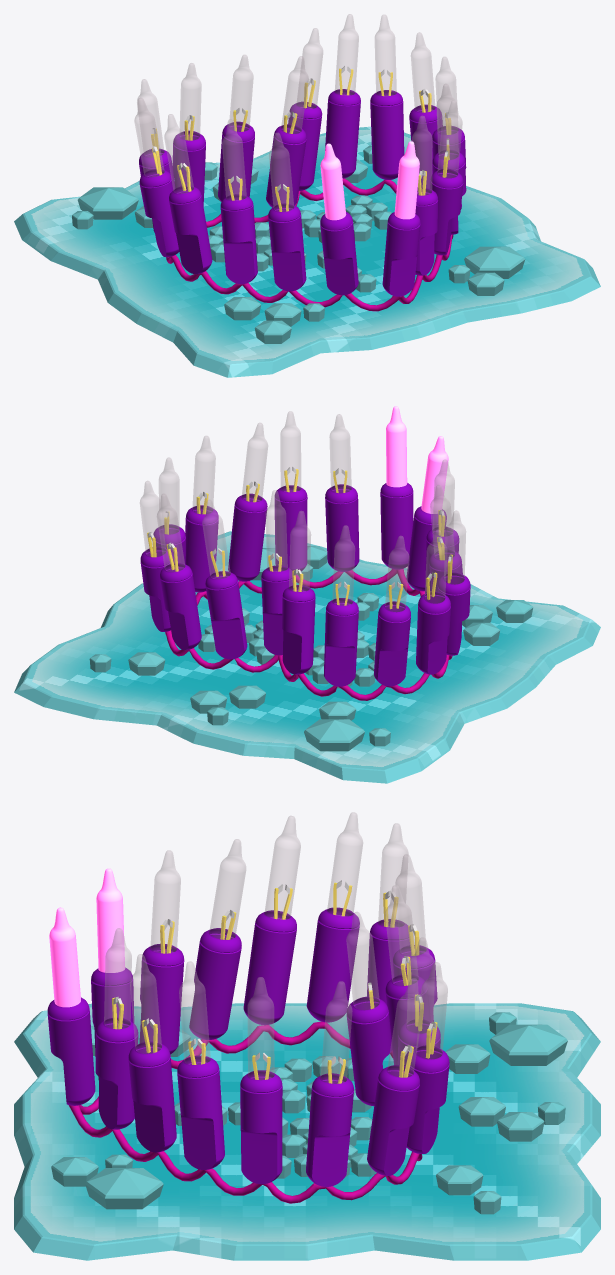
Rendered from Christmas_Feelin_It.fbx.
3 views of the same model, one above another, from view 1: azimuth 30°, elevation 25°; view 2: azimuth 150°, elevation 25°; view 3: azimuth 270°, elevation 25° (orthographic). The views are drawn at different scales.
Parts seen in each view (by area): view 1: snowpatch_2x2_6, glass (×16), snowpatch_crystals, opaque (×2), light_white_04, light_white_03, light_white_05, light_white_13, light_white_01, light_white_02, light_white_10, light_white_12 (+12 smaller); view 2: snowpatch_2x2_6, glass (×16), snowpatch_crystals, opaque (×2), light_white_11, light_white_08, light_white_18, light_white_09, light_white_16, light_white_17, light_white_07, light_white_01 (+12 smaller); view 3: snowpatch_2x2_6, glass (×16), snowpatch_crystals, opaque (×2), light_white_06, light_white_05, light_white_15, light_white_16, light_white_14, light_white_04, light_white_17, light_white_13 (+12 smaller).
Part boxes in pixels (bbox=[...]): snowpatch_2x2_6: bbox=[14, 126, 600, 377]; glass (×16): bbox=[134, 14, 462, 211]; snowpatch_crystals: bbox=[72, 145, 525, 343]; opaque (×2): bbox=[320, 141, 419, 220]; light_white_04: bbox=[220, 194, 257, 284]; light_white_03: bbox=[268, 203, 306, 291]; light_white_05: bbox=[169, 185, 212, 274]; light_white_13: bbox=[370, 90, 404, 179]; light_white_01: bbox=[382, 212, 420, 296]; light_white_02: bbox=[320, 212, 358, 295]; light_white_10: bbox=[266, 124, 306, 207]; light_white_12: bbox=[325, 89, 360, 178]; snowpatch_2x2_6: bbox=[14, 531, 600, 783]; glass (×16): bbox=[140, 411, 465, 611]; snowpatch_crystals: bbox=[89, 546, 533, 751]; opaque (×2): bbox=[386, 406, 448, 513]; light_white_11: bbox=[205, 571, 247, 659]; light_white_08: bbox=[324, 598, 358, 686]; light_white_18: bbox=[325, 484, 359, 571]; light_white_09: bbox=[282, 585, 315, 674]; light_white_16: bbox=[228, 493, 267, 581]; light_white_17: bbox=[274, 485, 307, 571]; light_white_07: bbox=[374, 601, 410, 686]; light_white_01: bbox=[380, 483, 413, 569]; snowpatch_2x2_6: bbox=[14, 1003, 600, 1260]; glass (×16): bbox=[104, 812, 447, 1083]; snowpatch_crystals: bbox=[51, 1012, 567, 1214]; opaque (×2): bbox=[49, 868, 125, 1007]; light_white_06: bbox=[306, 907, 359, 1022]; light_white_05: bbox=[243, 910, 296, 1025]; light_white_15: bbox=[240, 1070, 282, 1184]; light_white_16: bbox=[177, 1055, 224, 1169]; light_white_14: bbox=[306, 1073, 353, 1186]; light_white_04: bbox=[189, 928, 241, 1039]; light_white_17: bbox=[128, 1041, 176, 1152]; light_white_13: bbox=[367, 1065, 419, 1175].
Bounding box in the file's own units: 1.93 × 0.8362 × 1.91.
Materials: 8 (1 with a texture image).
